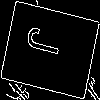J: (25, 25, 71, 60)
